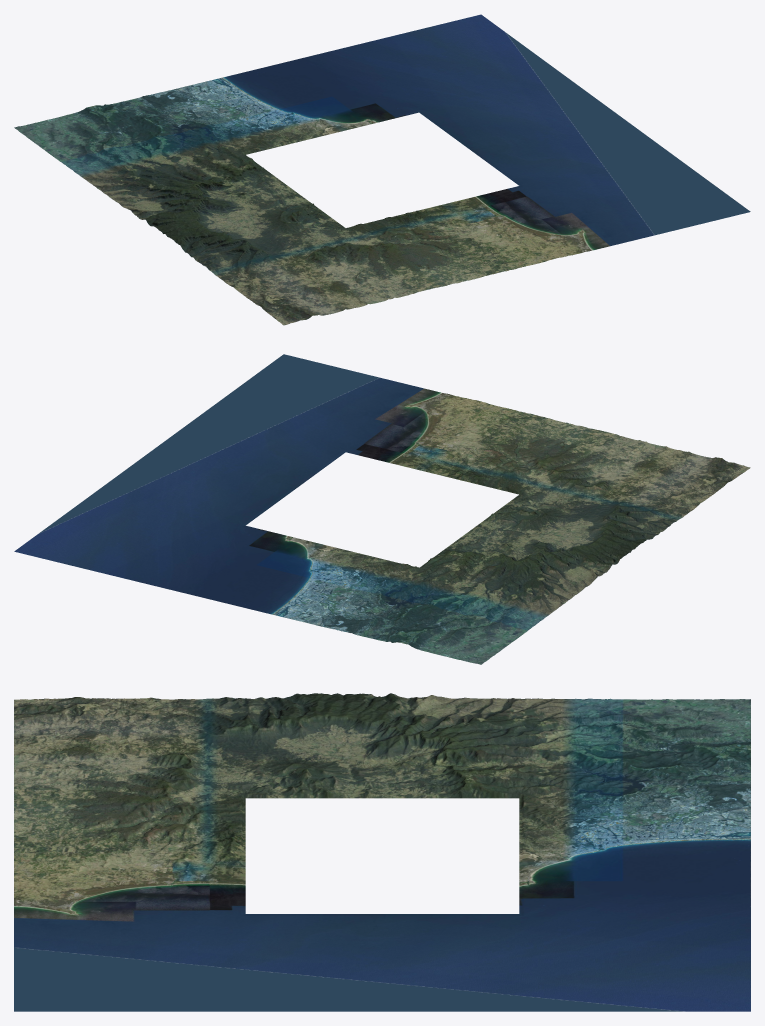
Rendered from backdrop.glb.
3 renders of one model, top to bottom at view 1: azimuth 30°, elevation 25°; view 2: azimuth 150°, elevation 25°; view 3: azimuth 270°, elevation 25°, orthographic. The views are drawn at different scales.
Parts seen in each view (by area): view 1: backdrop; view 2: backdrop; view 3: backdrop.
Part boxes in pixels (x1,y1,x2,y2): backdrop: [14, 14, 750, 325]; backdrop: [14, 354, 750, 664]; backdrop: [14, 693, 750, 1011].
Bounding box in the file's own units: 84000 × 1279 × 84000.
Materials: 1 (1 with a texture image).
